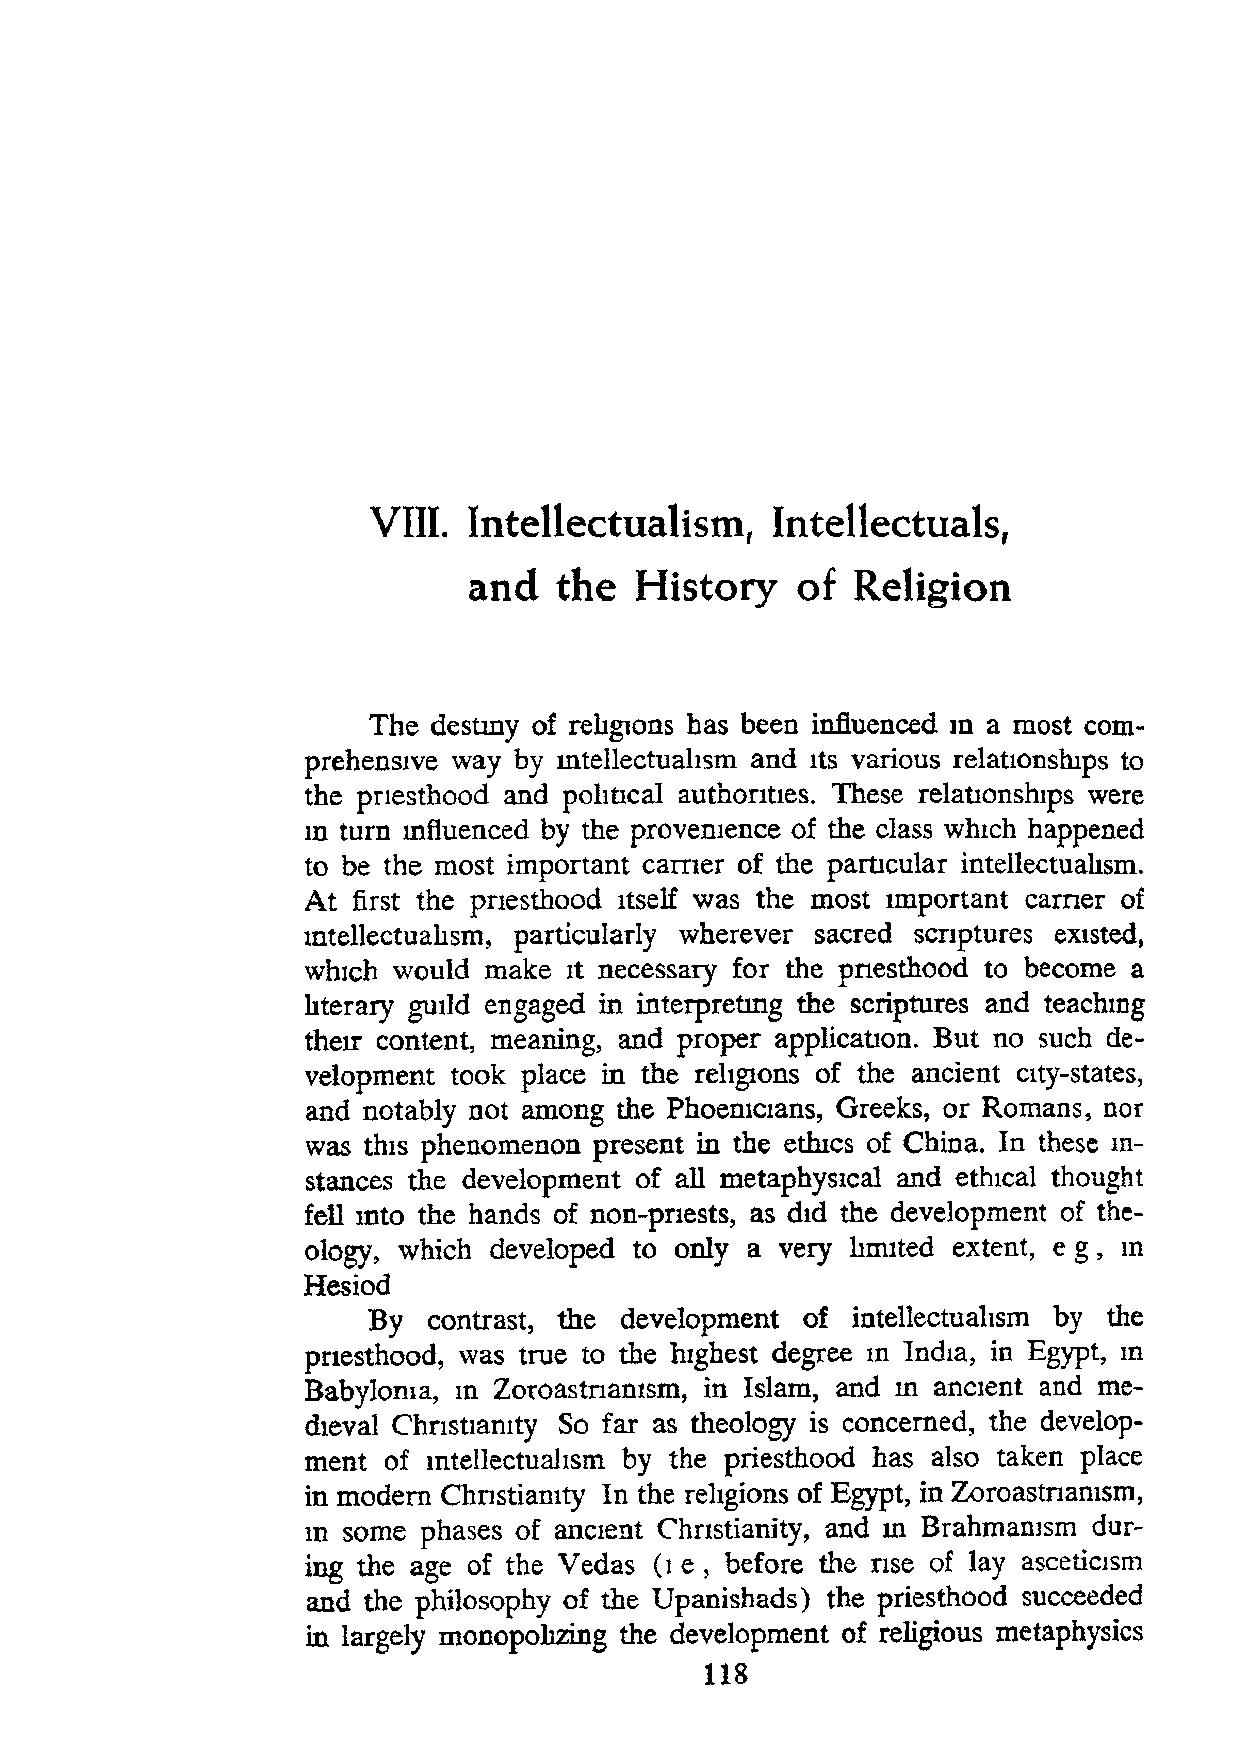chapter: (368, 502, 1011, 613)
content: (301, 707, 1147, 1656)
content_pagenumber: (701, 1660, 747, 1686)
